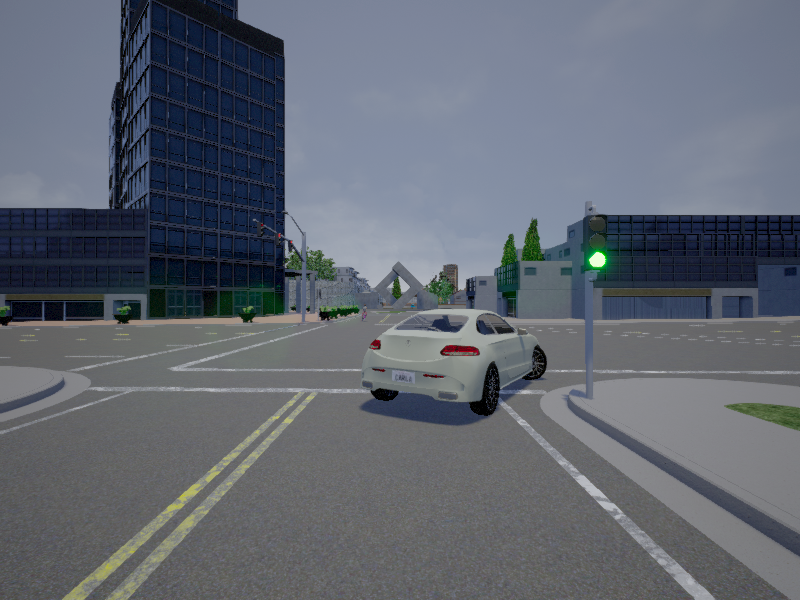Benign: (363, 306, 546, 418)
